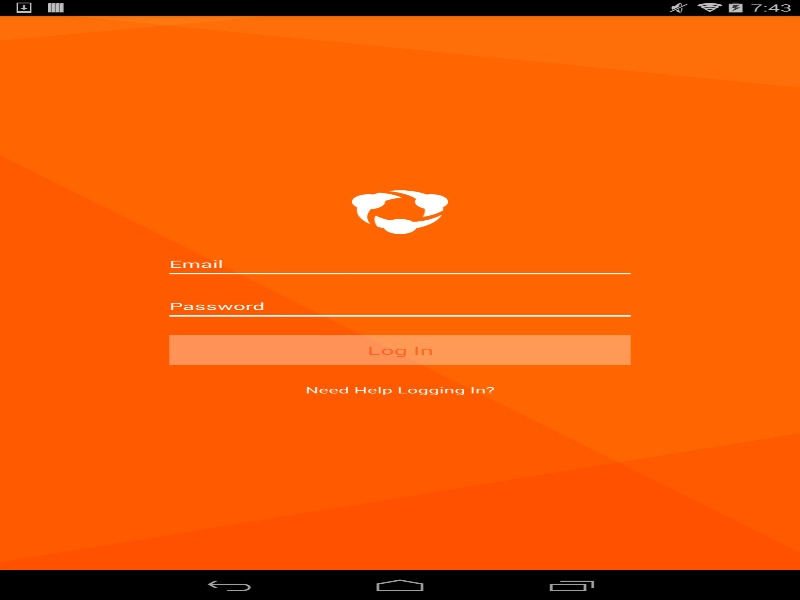Button: (169, 335, 630, 365)
Input: (169, 257, 630, 270), (169, 299, 630, 312)
